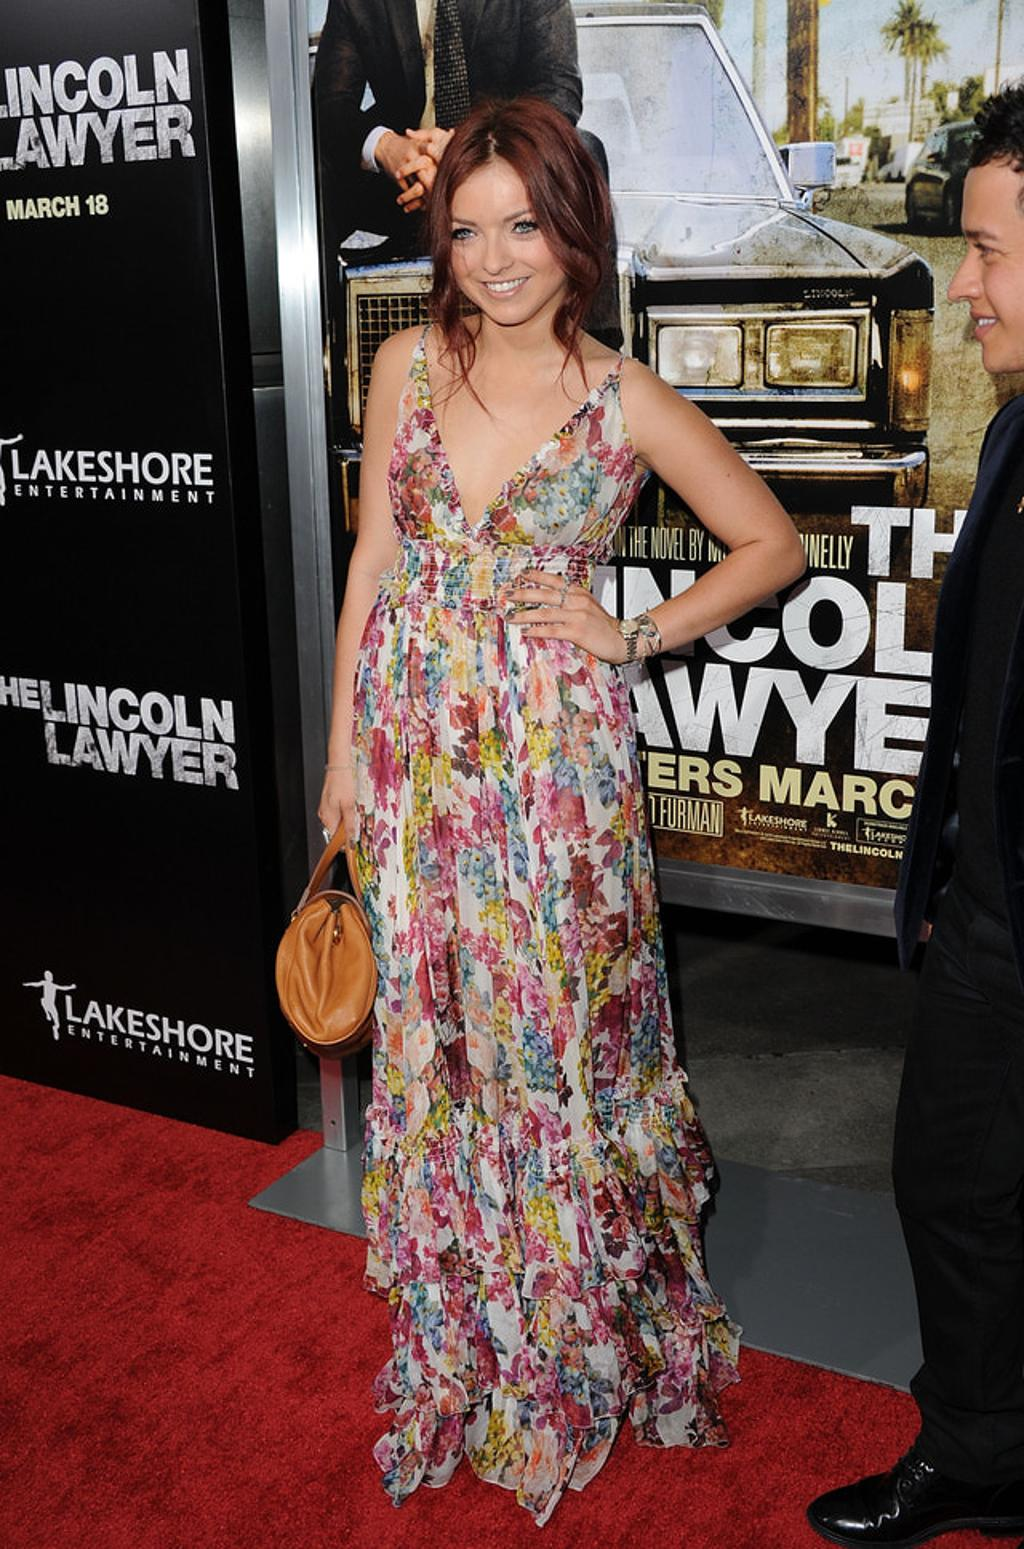face: (441, 160, 565, 323), (955, 148, 1024, 375)
